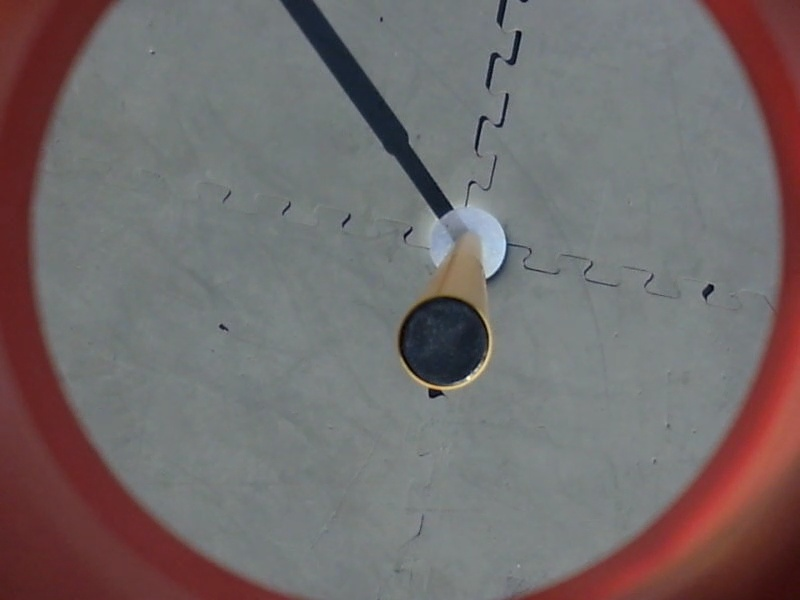tip: (395, 288, 496, 393)
